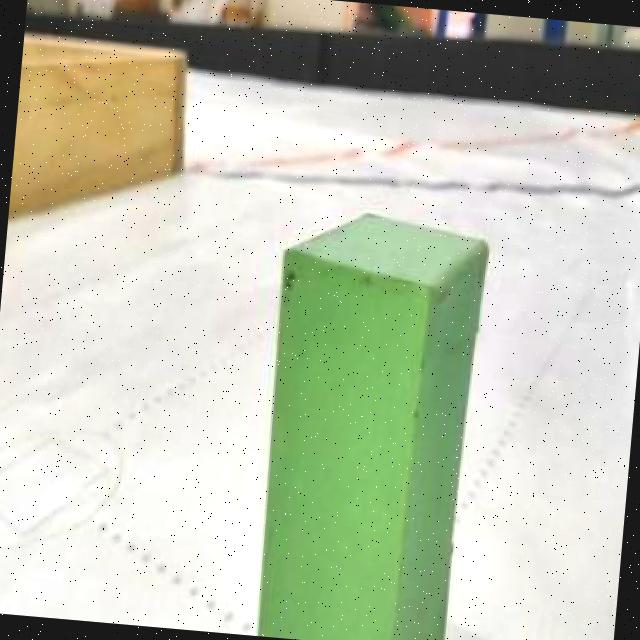greenbox: (247, 201, 493, 640)
